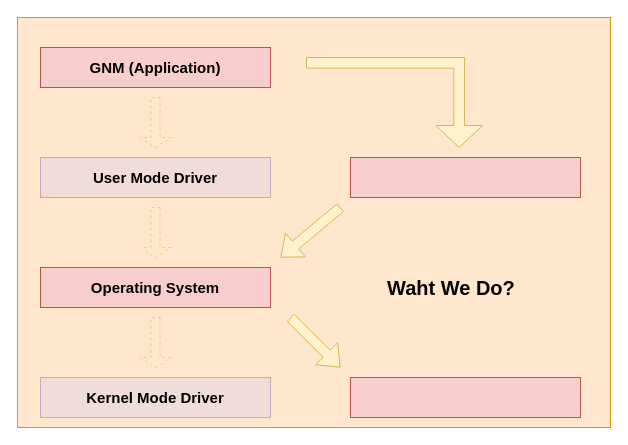
This 628x445 diagram has some shape labels left out. The box of each missing label's shape, as (x1, y1, x2, y2) in pixels:
Custom GNM Driver: (350, 156, 580, 198)
Kernel Mode Driver Simulation: (350, 376, 580, 418)
